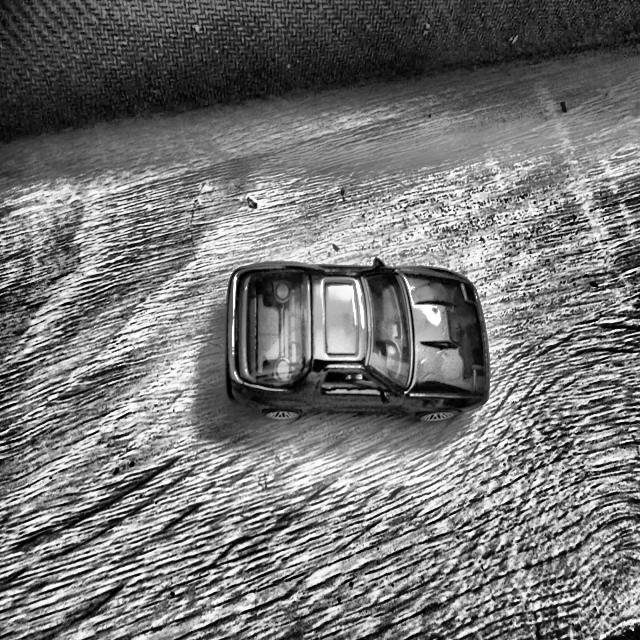car: (225, 258, 490, 420)
